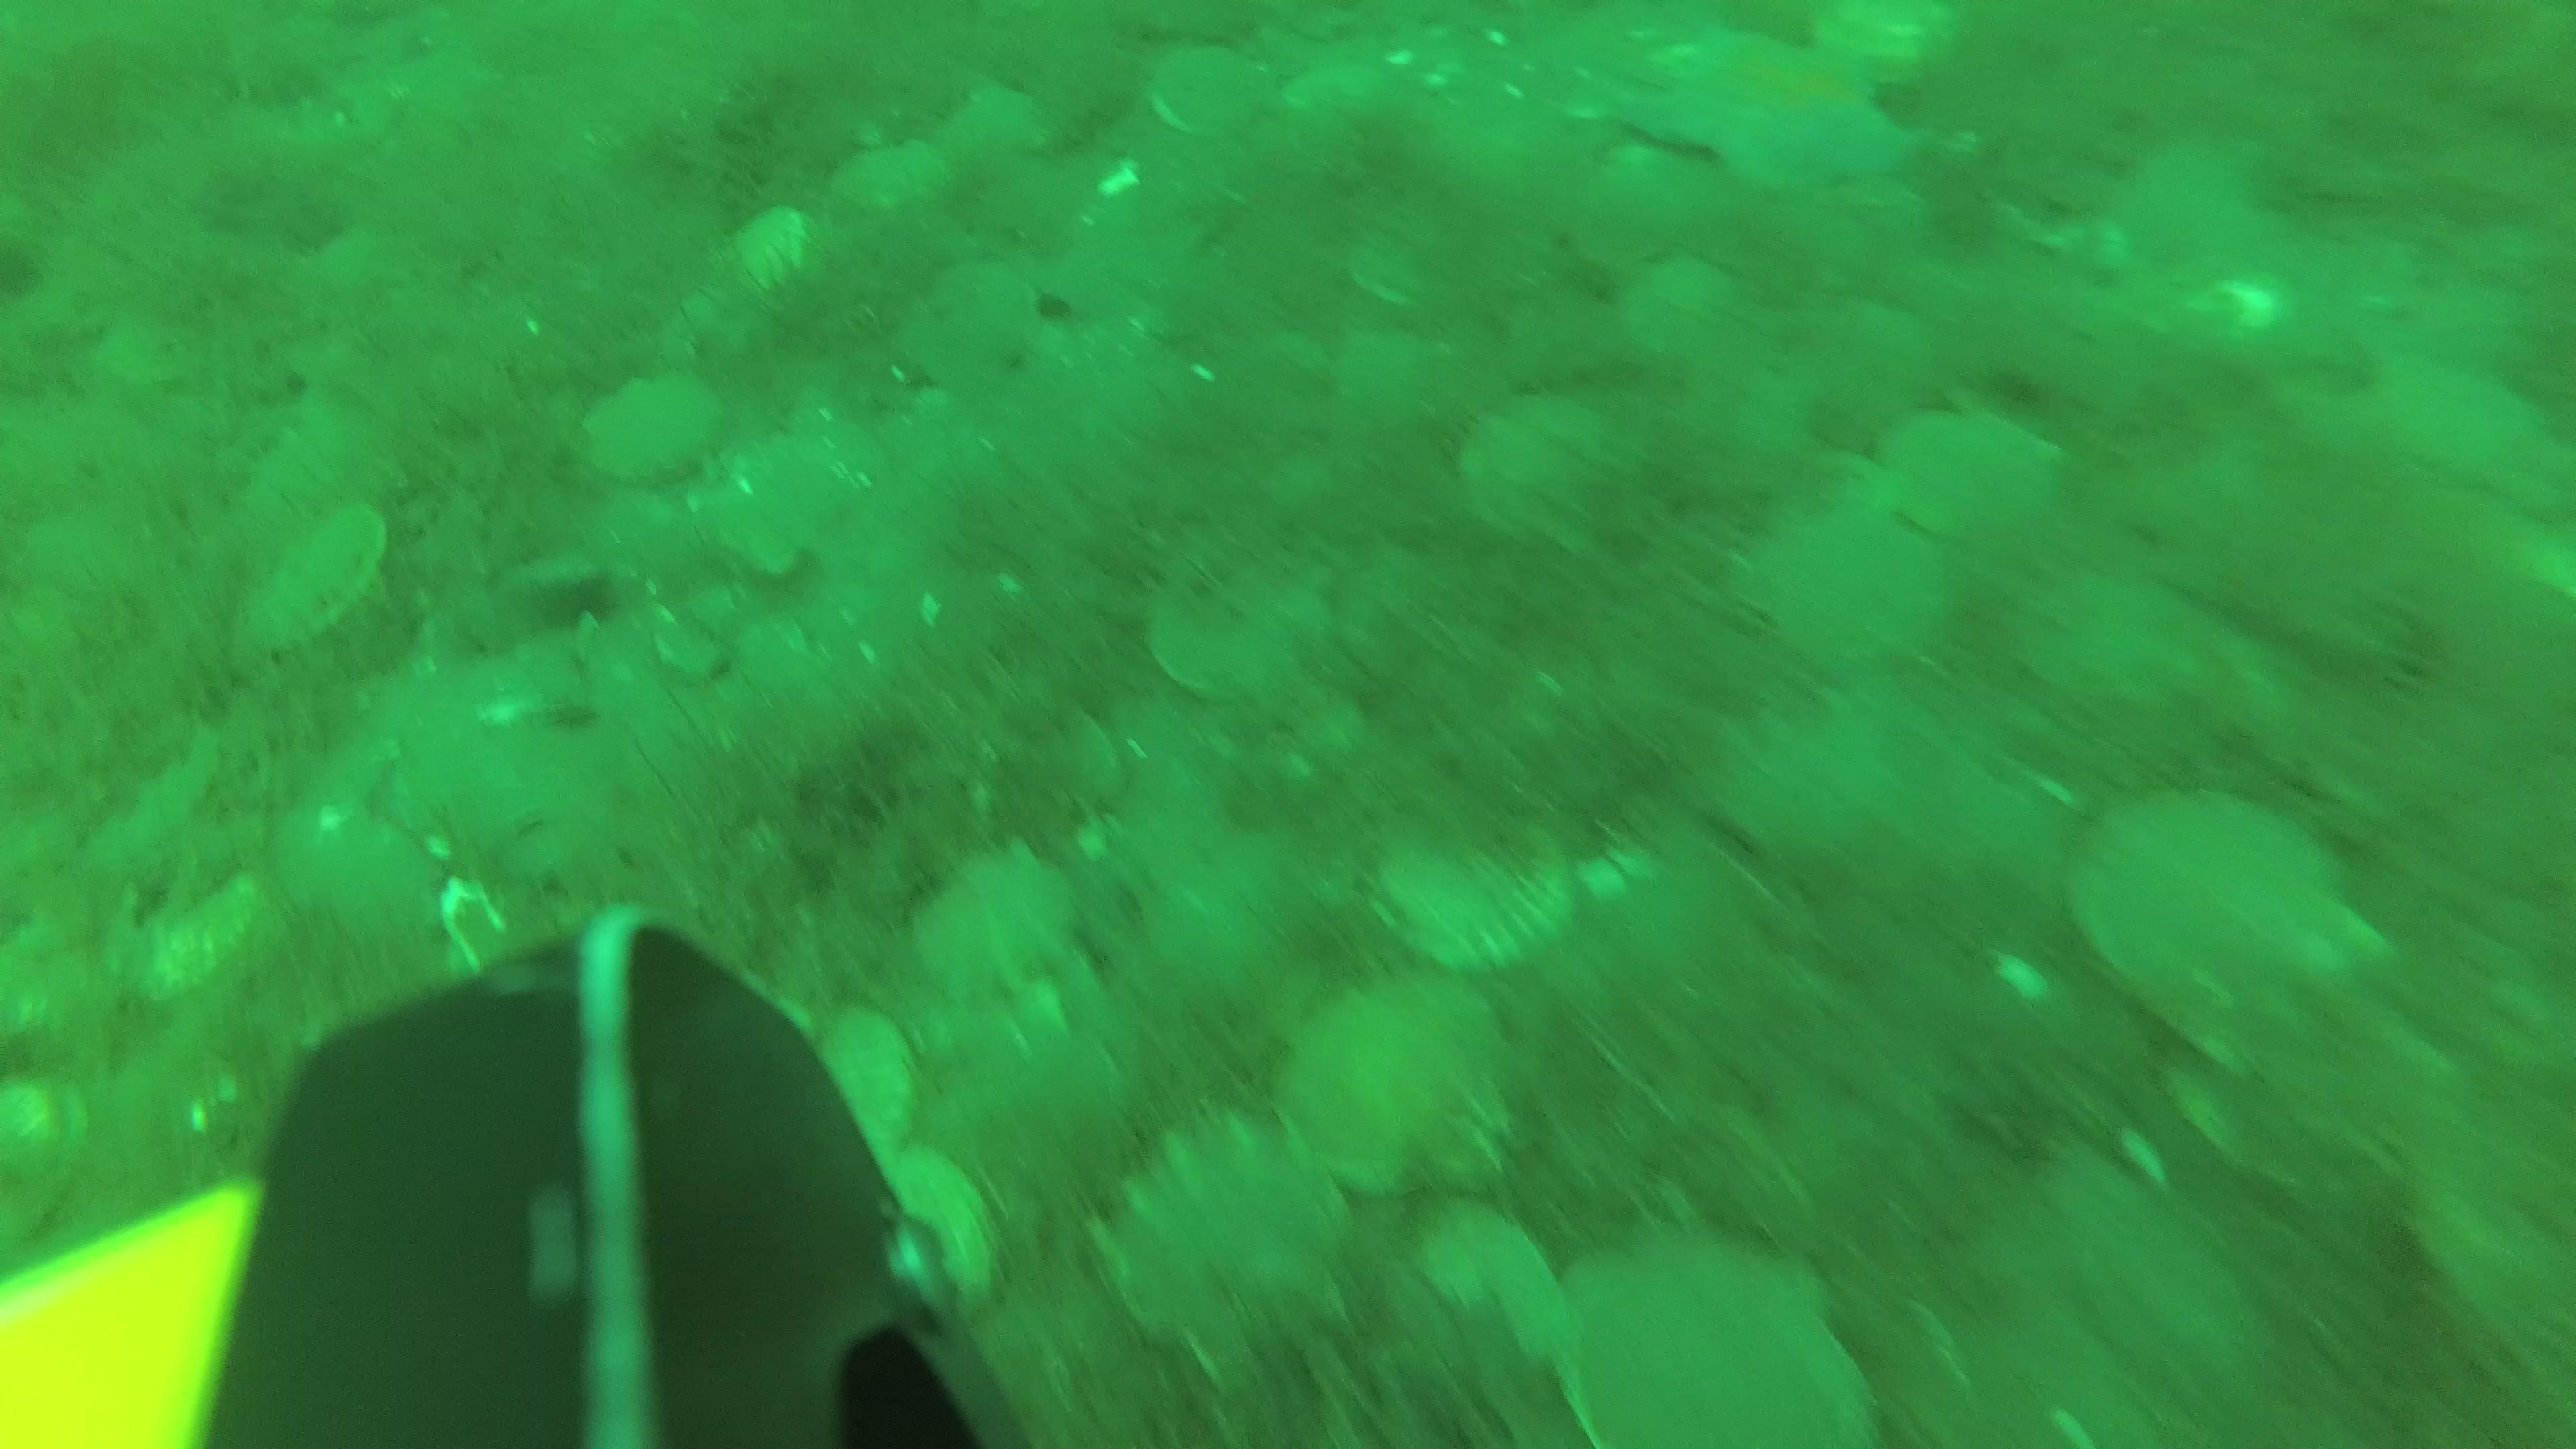scallop: (2059, 761, 2394, 1062), (1092, 1102, 1353, 1401), (1546, 1226, 1893, 1449), (1276, 961, 1527, 1205), (2171, 1016, 2472, 1201), (1332, 1189, 1578, 1376), (1737, 501, 1962, 672), (1376, 816, 1583, 982), (1139, 536, 1345, 701), (1451, 398, 1651, 557), (1872, 393, 2074, 541), (2019, 566, 2233, 706), (908, 853, 1085, 1012), (241, 497, 386, 663), (798, 994, 922, 1175), (695, 439, 865, 570), (888, 1143, 1005, 1322), (2383, 340, 2541, 471), (573, 363, 732, 487), (2, 1070, 97, 1265), (126, 863, 255, 1001), (2121, 138, 2254, 249), (1615, 255, 1743, 368), (924, 255, 1042, 375), (1146, 42, 1284, 138), (938, 80, 1058, 177), (1812, 4, 1971, 76), (832, 140, 950, 225), (725, 198, 826, 297)
starfish: (1621, 39, 1914, 198)
